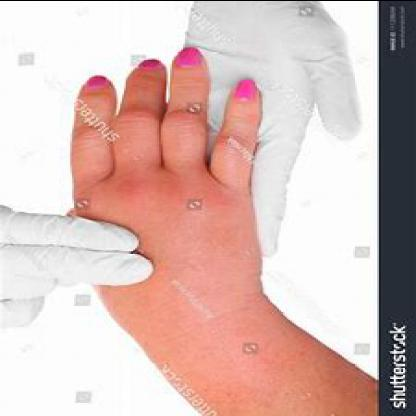Wasp: (92, 174, 260, 342), (152, 342, 288, 406)
